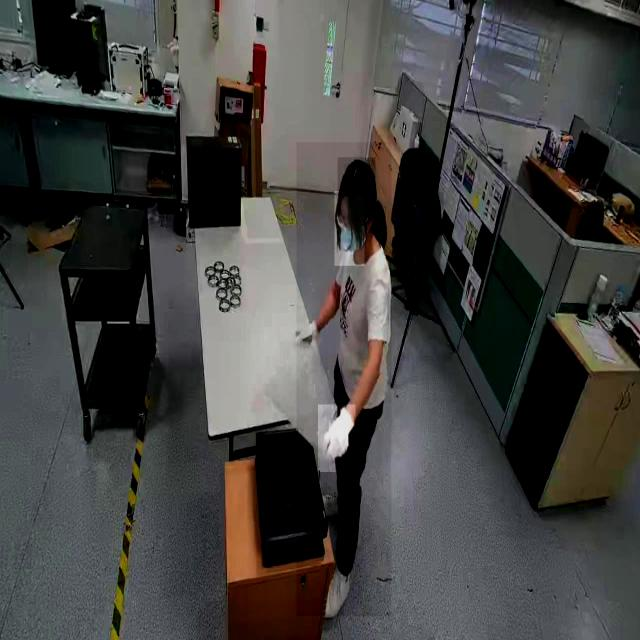face_mask: (334, 191, 364, 266)
hand_glove: (318, 404, 356, 473), (293, 313, 319, 358)
head_nohelmet: (338, 158, 376, 198)
person: (296, 142, 392, 617)
